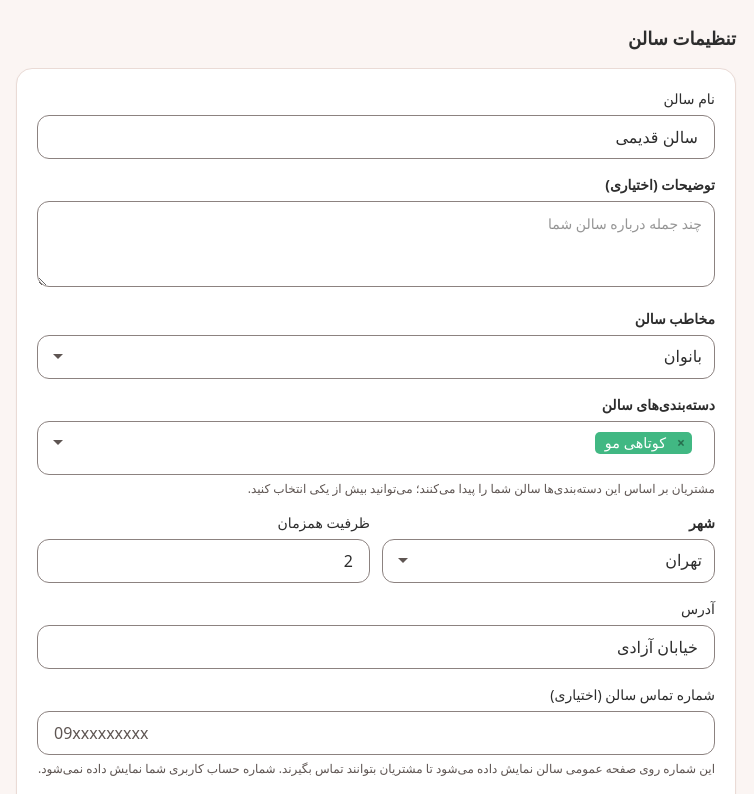
Test: SalonSettingsView › re-enables the save button once capacity is back in the 1-50 range
Replace the text in the number field with test id "capacity" with "0" at (204, 561), box [37,539,370,583]
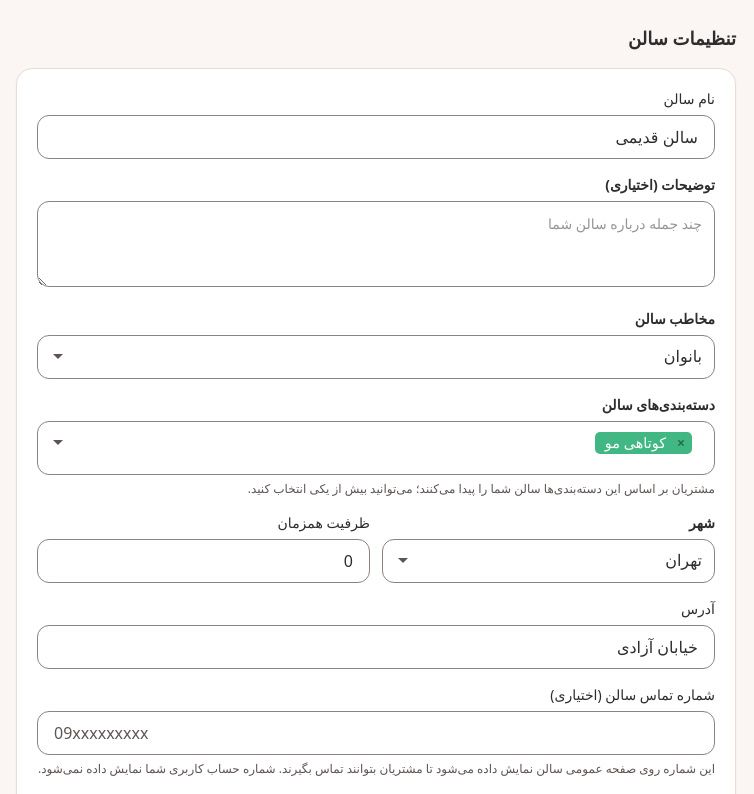
Replace the text in the number field with test id "capacity" with "5" at (204, 561), box [37,539,370,583]
(page scrolled)
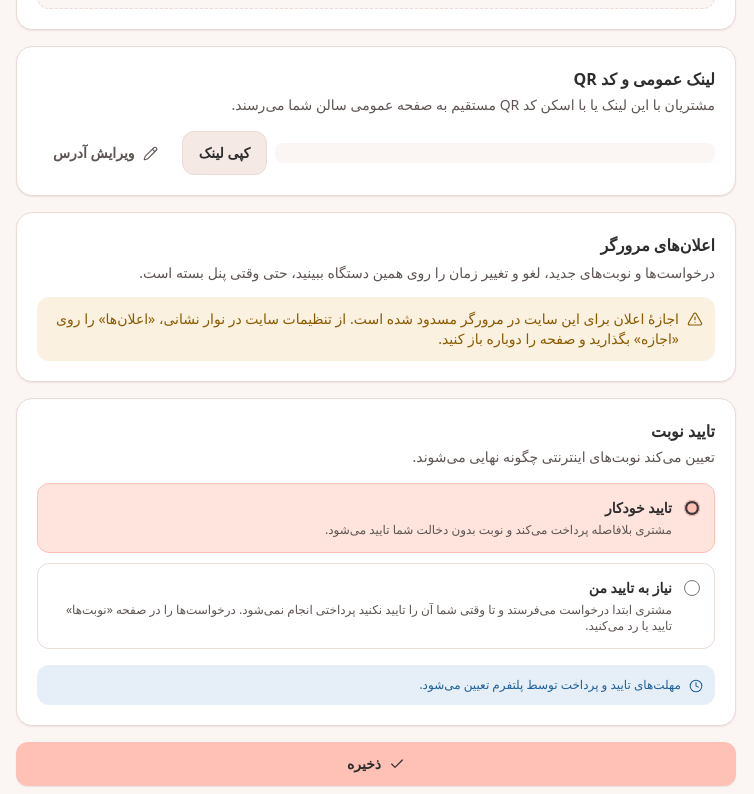
Expected: the button with test id "save-button" is enabled, [16,742,736,786]
